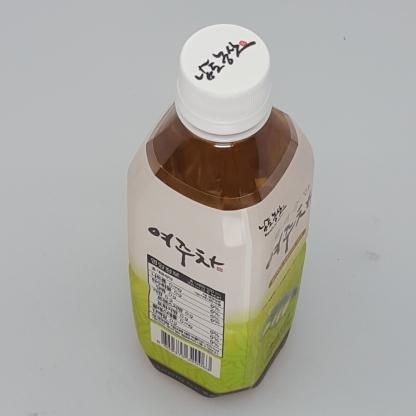-----------500ML: (127, 23, 314, 398)
